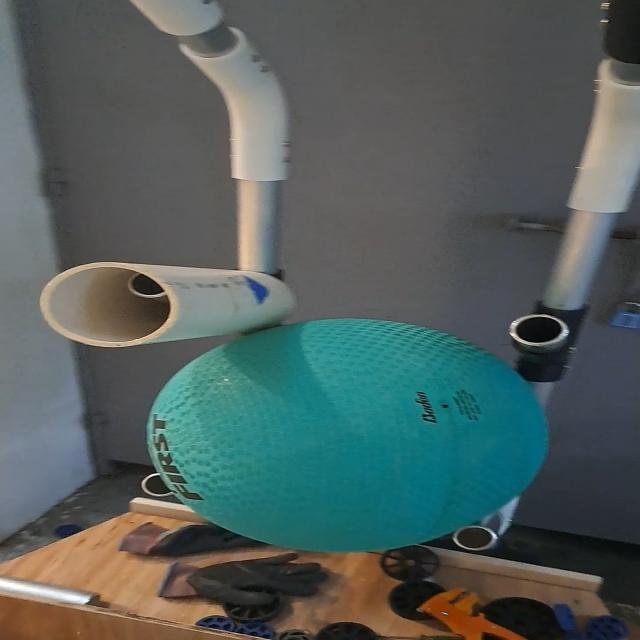ALGAE: (145, 318, 552, 556)
CORAL: (35, 259, 301, 348)
